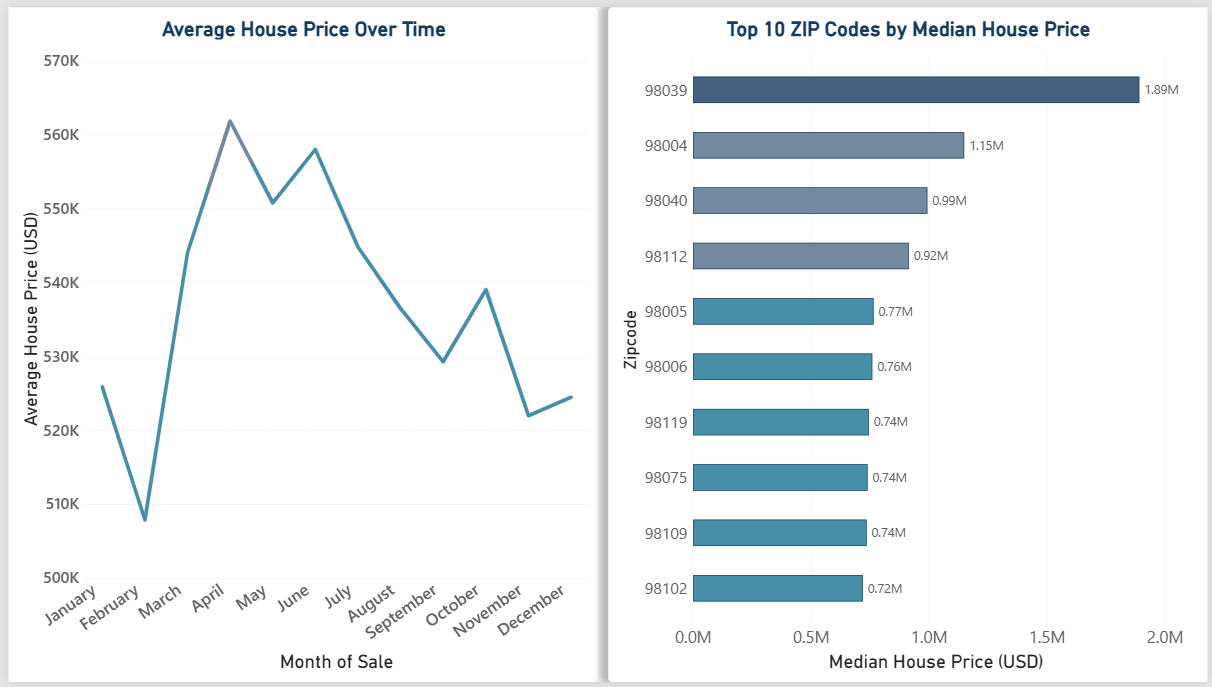

The dashboard page shown, as its layout file describes it:
{"tool":"powerbi","page":{"name":"Location Analysis","canvas":[1920,1080],"ordinal":1},"visuals":[{"type":"lineChart","title":"Average House Price Over Time","fields":{"Category":["kc_house_data_NaN.date.Variation.Date Hierarchy.Month"],"Y":["Avg(kc_house_data_NaN.price)"]},"box":[0,0,945.4,1080.8],"z":0},{"type":"clusteredBarChart","title":"Top 10 ZIP Codes by Median House Price","fields":{"Category":["kc_house_data_NaN.zipcode"],"Y":["Median(kc_house_data_NaN.price)"]},"box":[960.2,0,960.2,1080.8],"z":1000}]}

Visuals, with their boxes in screenshot pixels (x1, y1, x2, y2), scaled from the page's 1920x1080 canvas onto the 1212x687 screenshot:
"Average House Price Over Time" lineChart: detection(0, 0, 597, 686)
"Top 10 ZIP Codes by Median House Price" clusteredBarChart: detection(606, 0, 1211, 686)
